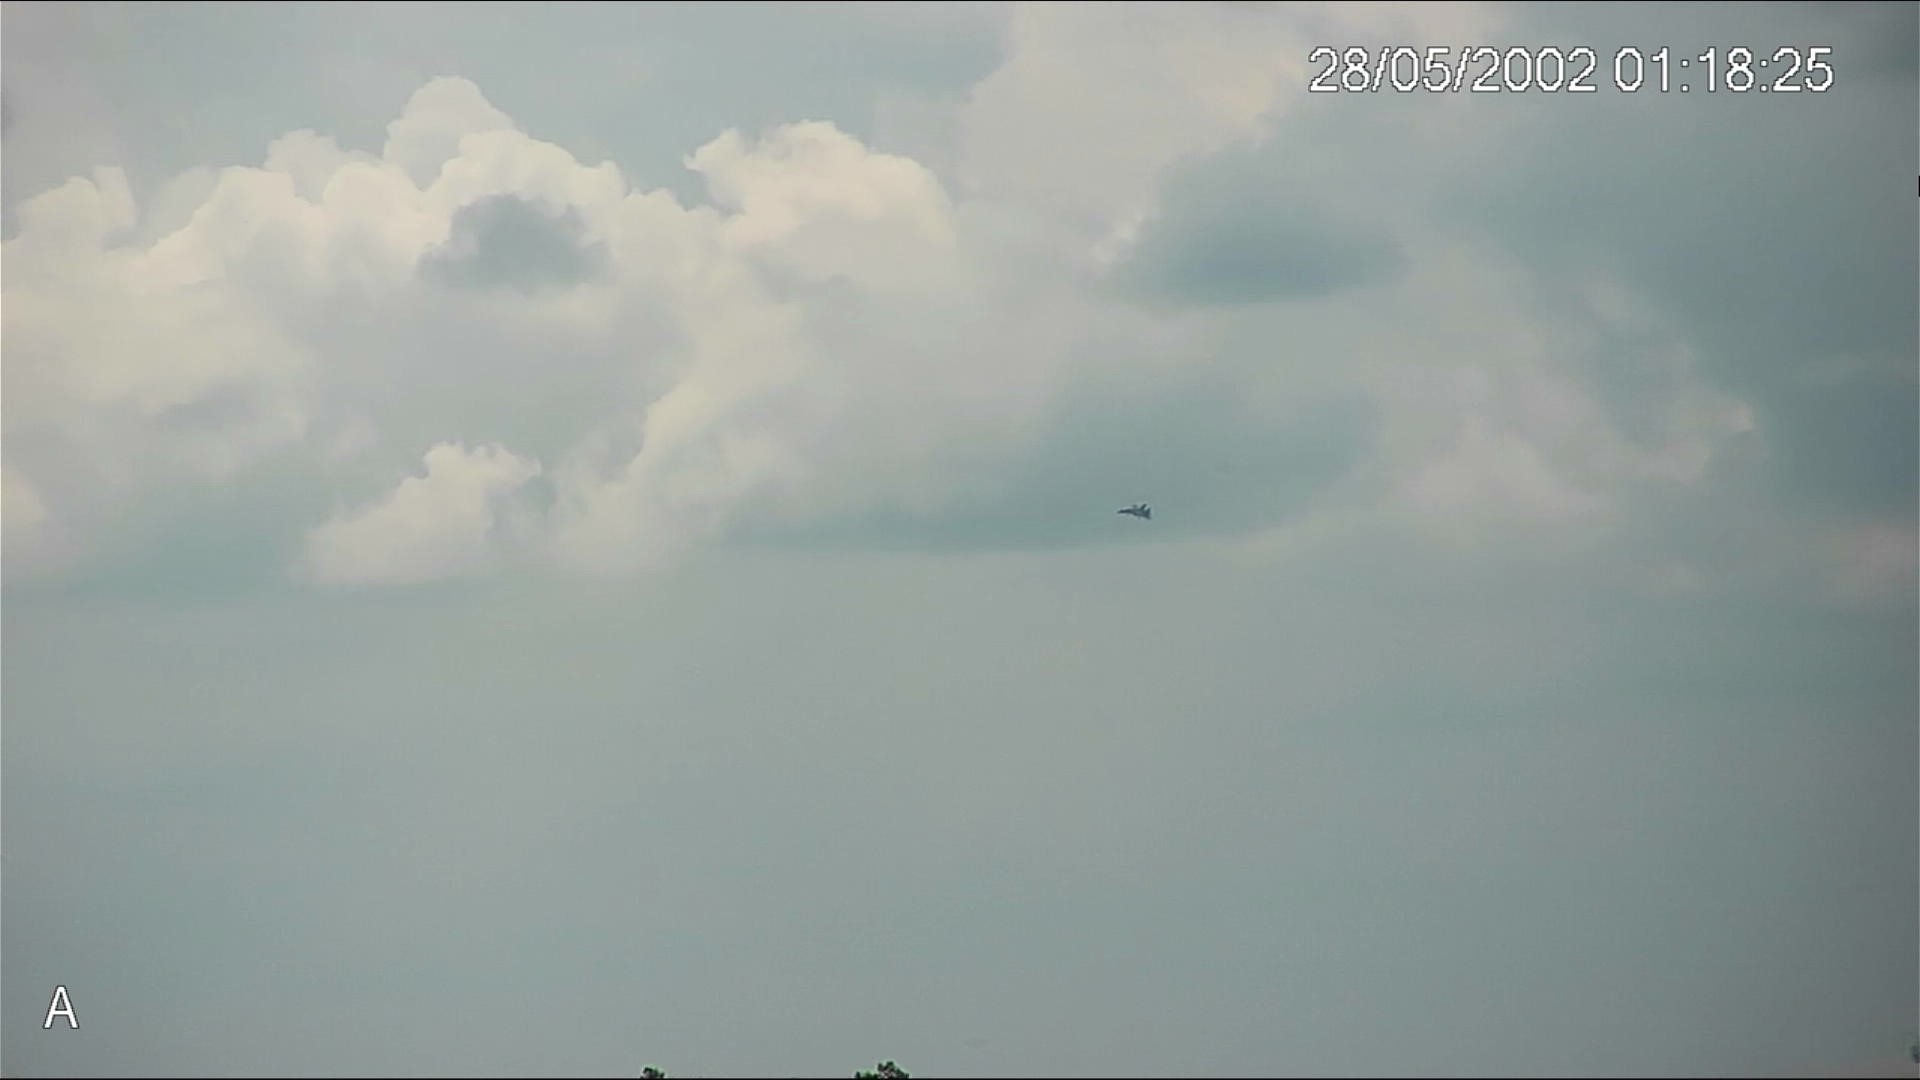SU_30: (1117, 502, 1153, 521)
